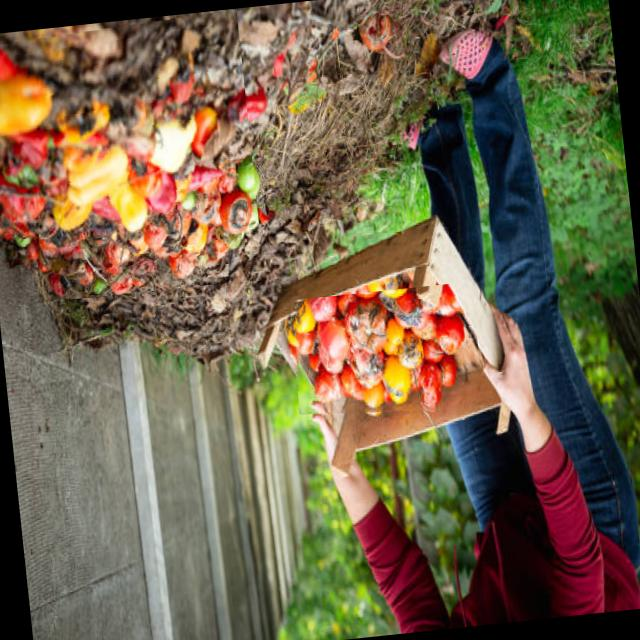Organic: (0, 7, 263, 305), (286, 280, 483, 427)
